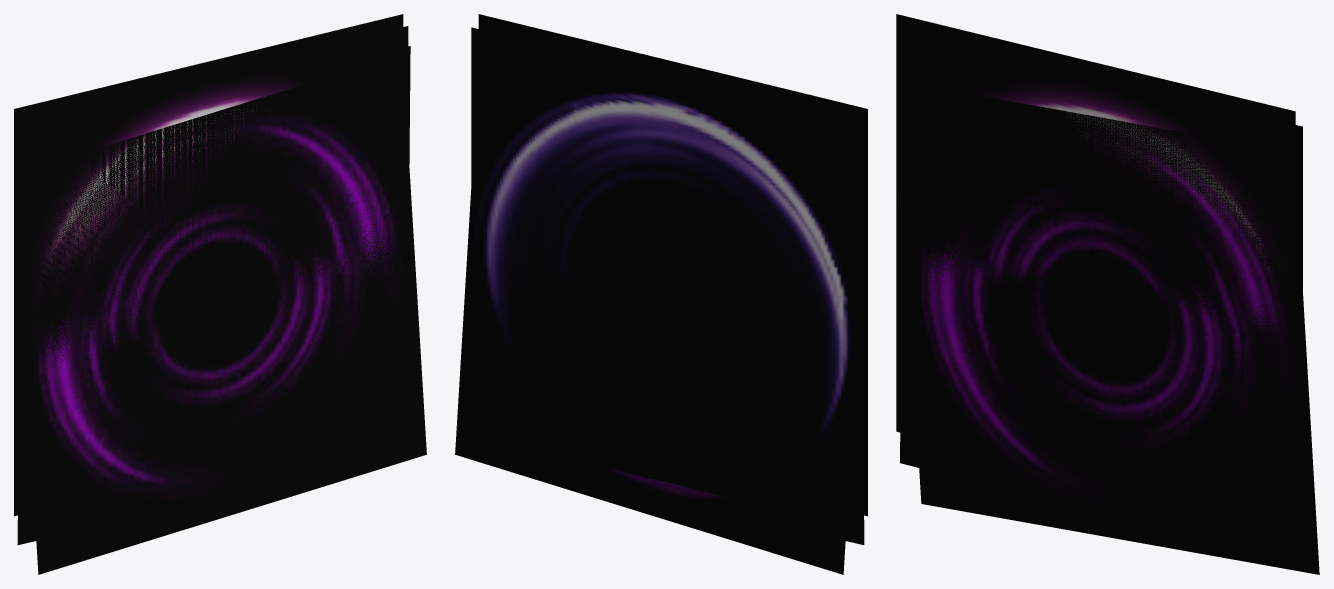
The model's file is fx_fbx_104_dagger_powerattack_1.FBX.
The picture shows the model from 3 angles, left to right: view 1: azimuth 30°, elevation 25°; view 2: azimuth 150°, elevation 25°; view 3: azimuth 330°, elevation 25°; orthographic projection. The views are drawn at different scales.
Visible parts, largest first — view 1: Plane001; view 2: Plane001; view 3: Plane001.
Part boxes in pixels (x1,y1,x2,y2): Plane001: (14,14,426,574); Plane001: (455,14,867,574); Plane001: (896,14,1319,574).
Size of the model in its own units: 84.85 by 0.3673 by 92.67.
Materials: 1 (1 with a texture image).
